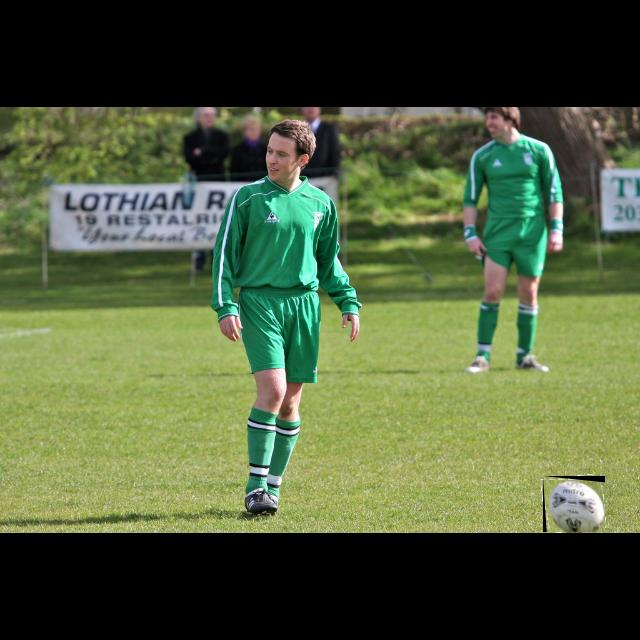Football: (543, 476, 605, 532)
